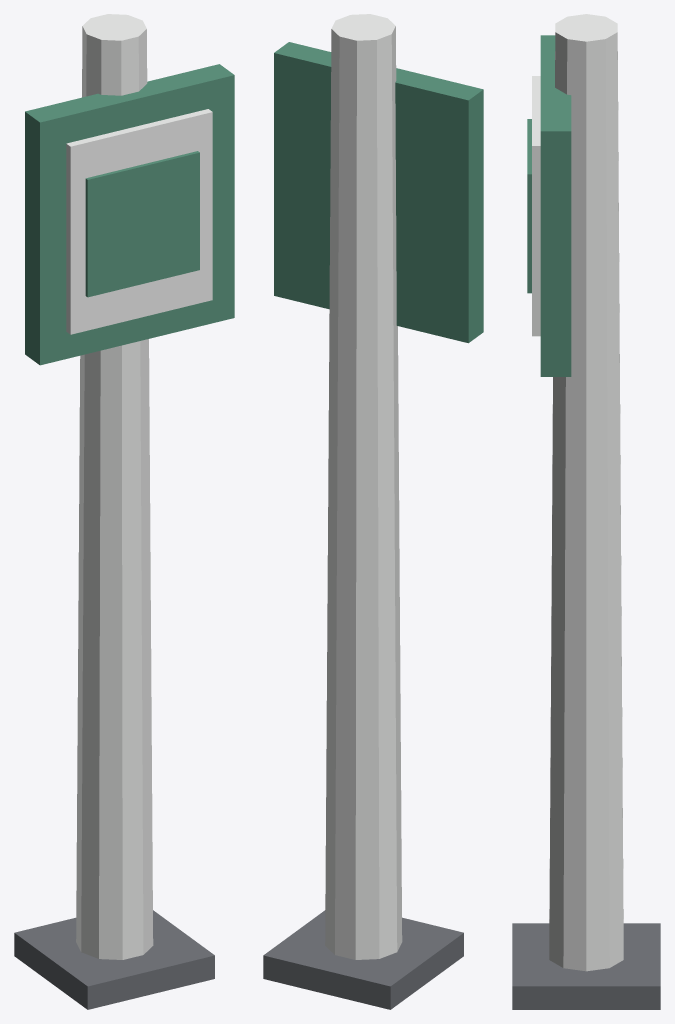
The model's file is racecourse-and-parade-ring-furlong-marker-6f54ac75__38603.glb.
The picture shows the model from 3 angles, left to right: view 1: azimuth 30°, elevation 25°; view 2: azimuth 150°, elevation 25°; view 3: azimuth 270°, elevation 25°; orthographic projection.
Parts seen in each view (by area): view 1: furlong-marker; view 2: furlong-marker; view 3: furlong-marker.
Part boxes in pixels (bbox=[...]): furlong-marker: bbox=[14, 14, 234, 1009]; furlong-marker: bbox=[263, 14, 483, 1009]; furlong-marker: bbox=[512, 14, 660, 1009].
Size of the model in its own units: 0.52 by 2.4 by 0.34.
